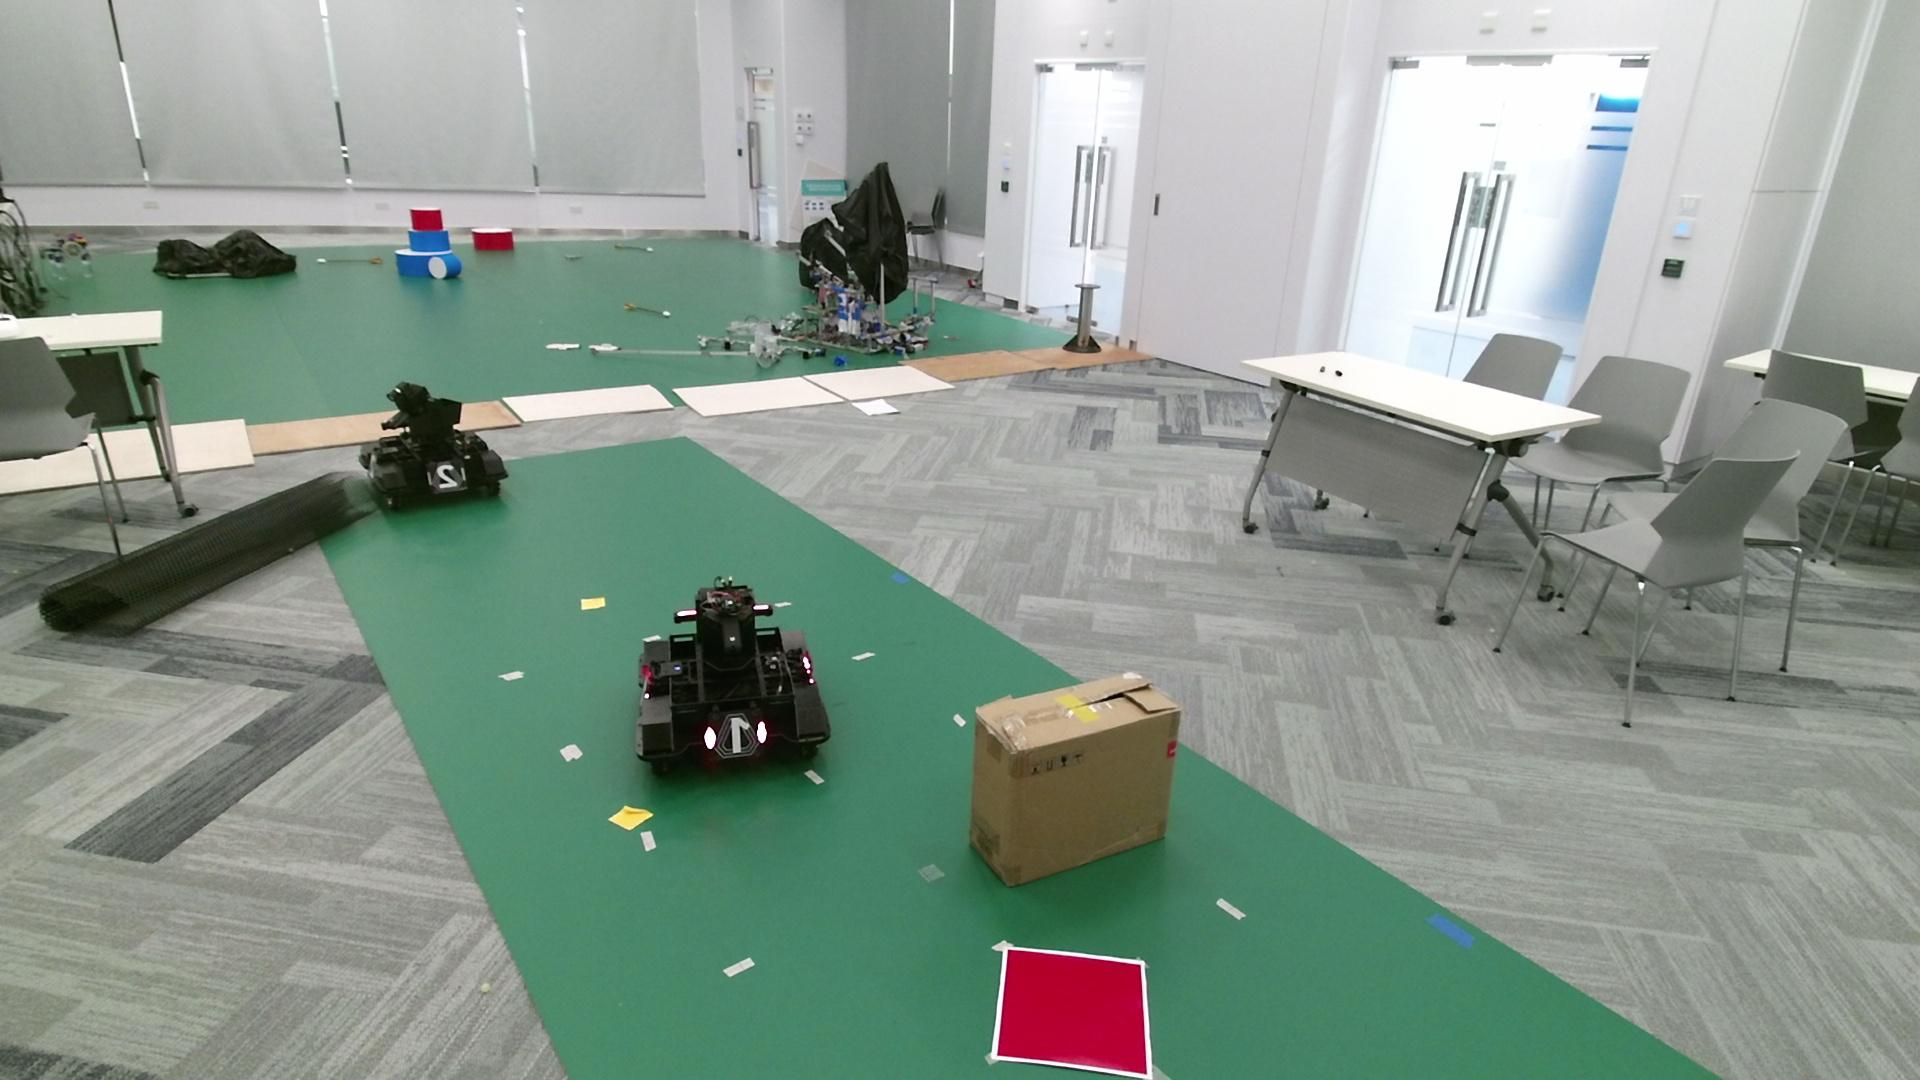robot: (636, 574, 831, 777), (357, 380, 509, 510)
